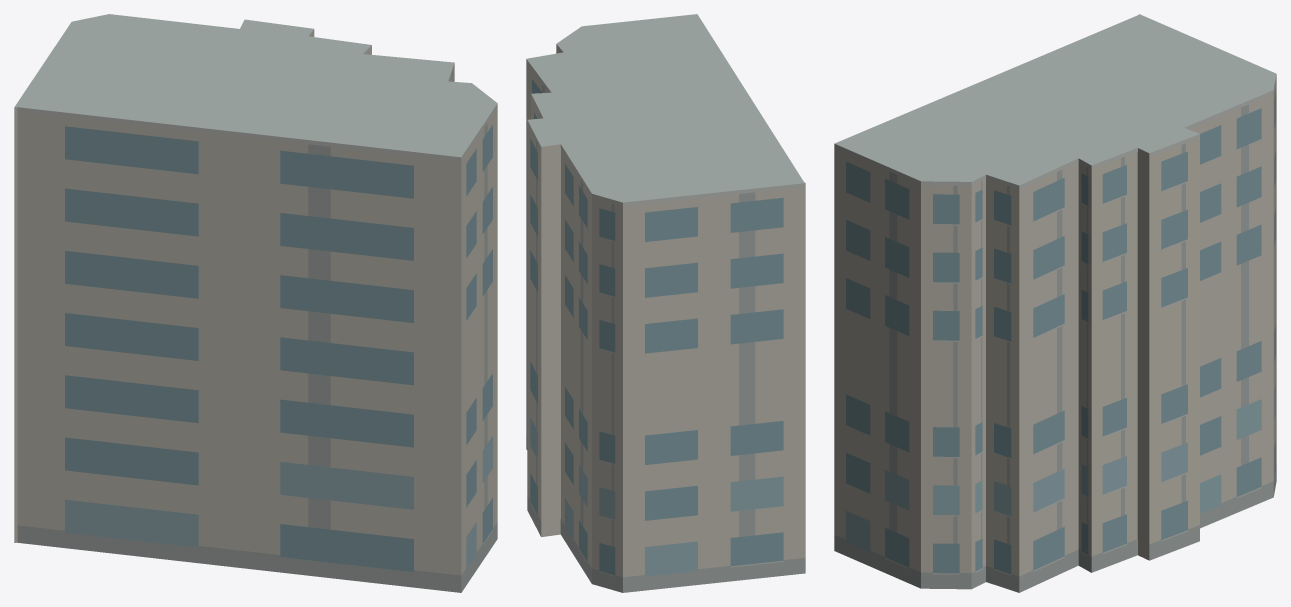
The model's file is survey-upis-32604310.glb.
The picture shows the model from 3 angles, left to right: view 1: azimuth 30°, elevation 25°; view 2: azimuth 150°, elevation 25°; view 3: azimuth 270°, elevation 25°; orthographic projection. The views are drawn at different scales.
Visible parts, largest first — view 1: survey-upis-32604310.tmp; view 2: survey-upis-32604310.tmp; view 3: survey-upis-32604310.tmp.
Boxes of the visible parts, left/top/right/bottom form: survey-upis-32604310.tmp: left=14, top=14, right=497, bottom=592; survey-upis-32604310.tmp: left=526, top=14, right=805, bottom=592; survey-upis-32604310.tmp: left=834, top=14, right=1276, bottom=592.
Bounding box in the file's own units: 22.59 × 25 × 24.6.
